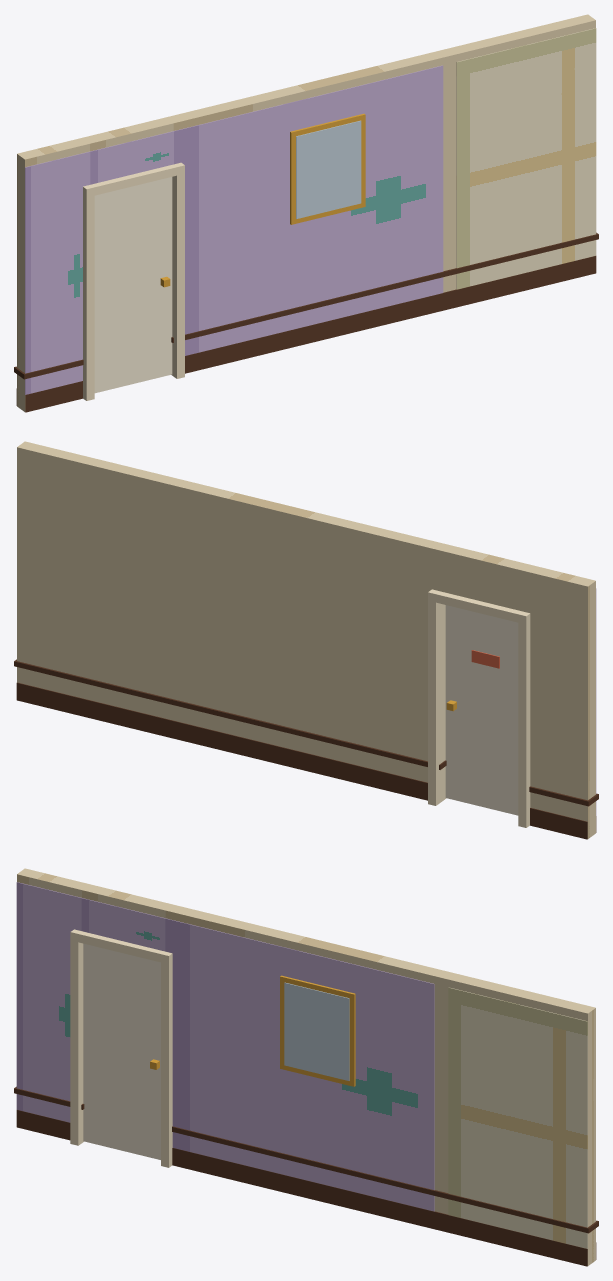
The model's file is hall_south.glb.
The picture shows the model from 3 angles, top to bottom: view 1: azimuth 30°, elevation 25°; view 2: azimuth 150°, elevation 25°; view 3: azimuth 330°, elevation 25°; orthographic projection.
Parts seen in each view (by area): view 1: Box7, Box18, Box12, Box6, Box3, Box4, Box17, Box1, Box8, Box10, Box22, Box9 (+4 smaller); view 2: Box3, Box1, Box12, Box4, Box5, Box10, Box22, Box9, Box2, Box11, Box19, Box21; view 3: Box7, Box18, Box12, Box6, Box3, Box4, Box17, Box9, Box8, Box22, Box10, Box16 (+4 smaller).
Boxes of the visible parts, bbox=[...] form: Box7: bbox=[174, 65, 443, 355]; Box18: bbox=[456, 28, 596, 289]; Box12: bbox=[94, 177, 172, 393]; Box6: bbox=[25, 151, 90, 394]; Box3: bbox=[166, 14, 595, 292]; Box4: bbox=[185, 256, 596, 373]; Box17: bbox=[296, 120, 361, 219]; Box1: bbox=[17, 138, 89, 411]; Box8: bbox=[90, 131, 173, 184]; Box10: bbox=[171, 162, 184, 378]; Box22: bbox=[171, 232, 598, 342]; Box9: bbox=[83, 184, 94, 400]; Box3: bbox=[17, 441, 446, 782]; Box1: bbox=[523, 565, 595, 838]; Box12: bbox=[445, 605, 518, 815]; Box4: bbox=[16, 682, 427, 800]; Box5: bbox=[439, 544, 530, 611]; Box10: bbox=[428, 589, 446, 805]; Box22: bbox=[14, 659, 446, 769]; Box9: bbox=[518, 611, 530, 827]; Box2: bbox=[530, 808, 596, 839]; Box11: bbox=[436, 591, 521, 622]; Box19: bbox=[530, 792, 595, 838]; Box21: bbox=[17, 668, 298, 745]; Box7: bbox=[165, 918, 434, 1211]; Box18: bbox=[448, 987, 587, 1248]; Box12: bbox=[83, 943, 160, 1159]; Box6: bbox=[16, 882, 81, 1122]; Box3: bbox=[165, 904, 595, 1265]; Box4: bbox=[172, 1148, 596, 1266]; Box17: bbox=[284, 982, 349, 1080]; Box9: bbox=[70, 929, 83, 1145]; Box8: bbox=[81, 898, 165, 951]; Box22: bbox=[172, 1126, 598, 1233]; Box10: bbox=[161, 951, 172, 1167]; Box16: bbox=[280, 975, 355, 1086].
Bounding box in the file's own units: 6.19 × 2.6 × 0.3.
9 materials, 3 textured.
